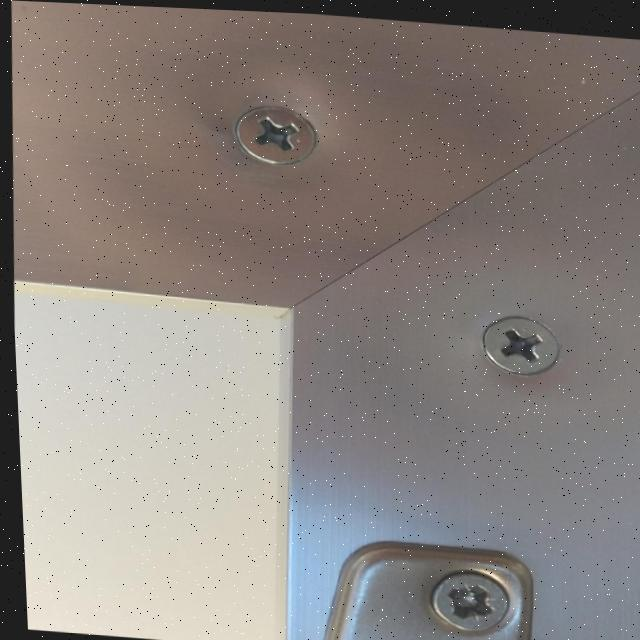Phillips: (225, 100, 325, 168), (473, 313, 559, 377)
Pozidriv: (425, 565, 508, 635)
